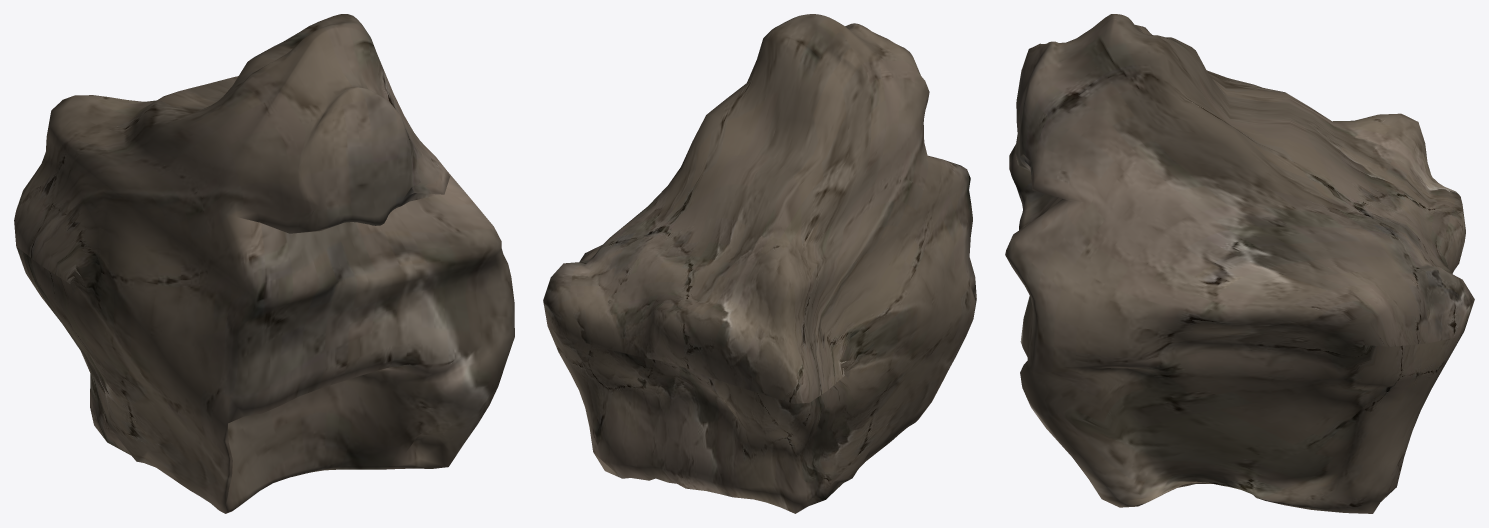
The model's file is Rock Medium.fbx.
3 views of the same model, side by side, from view 1: azimuth 30°, elevation 25°; view 2: azimuth 150°, elevation 25°; view 3: azimuth 270°, elevation 25° (orthographic). The views are drawn at different scales.
Visible parts, largest first — view 1: Rock_Medium; view 2: Rock_Medium; view 3: Rock_Medium.
Boxes of the visible parts, x1=… form: Rock_Medium: x1=14, y1=14, x2=514, y2=513; Rock_Medium: x1=543, y1=14, x2=976, y2=513; Rock_Medium: x1=1005, y1=14, x2=1474, y2=513.
Bounding box in the file's own units: 80.06 × 114 × 108.
1 material, 1 textured.
